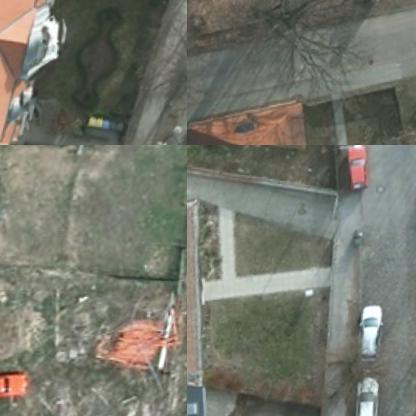car: (351, 302, 386, 364), (339, 145, 374, 203), (346, 372, 385, 415), (0, 360, 31, 409)
